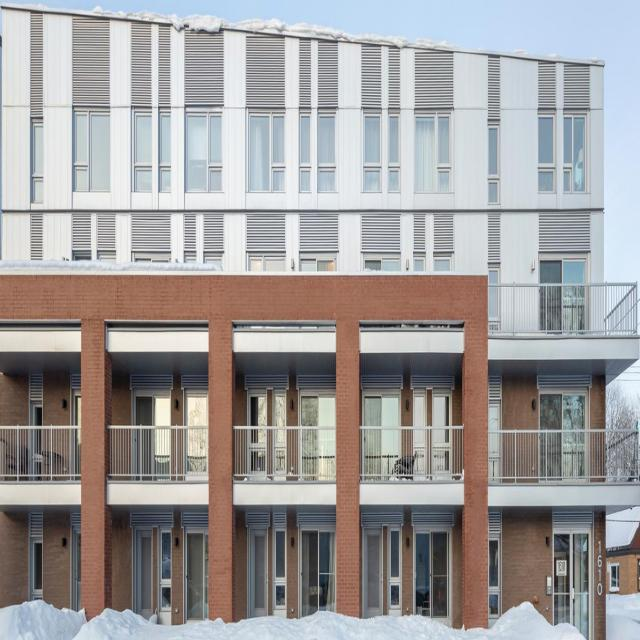door: (553, 531, 587, 629), (415, 528, 449, 618), (300, 532, 336, 614), (249, 526, 268, 619), (365, 529, 382, 618), (186, 531, 202, 621), (136, 527, 152, 614), (273, 528, 285, 612), (487, 534, 499, 618), (388, 528, 400, 608), (72, 525, 82, 612), (161, 530, 171, 606), (34, 538, 42, 597)
railing: (489, 425, 640, 485), (483, 286, 640, 338), (233, 426, 337, 483), (359, 427, 463, 483), (108, 424, 207, 480), (0, 427, 80, 481)
window: (186, 106, 222, 193), (247, 106, 284, 189), (75, 110, 111, 194), (414, 109, 450, 189), (564, 110, 585, 191), (133, 110, 153, 191), (540, 390, 585, 426), (363, 109, 381, 191), (318, 109, 335, 191), (538, 109, 553, 190), (301, 385, 336, 419), (364, 387, 400, 420), (540, 259, 587, 284), (158, 108, 171, 196), (134, 386, 171, 416), (298, 109, 310, 192), (33, 118, 43, 202), (388, 109, 398, 192), (489, 120, 498, 206), (186, 388, 209, 417), (248, 254, 283, 272), (250, 386, 267, 421), (433, 388, 451, 421), (300, 257, 336, 272), (361, 257, 399, 271), (434, 251, 454, 274), (274, 384, 286, 420), (413, 388, 425, 420), (489, 397, 500, 425), (73, 382, 81, 416), (414, 251, 425, 274), (489, 261, 498, 284), (33, 397, 43, 416)
